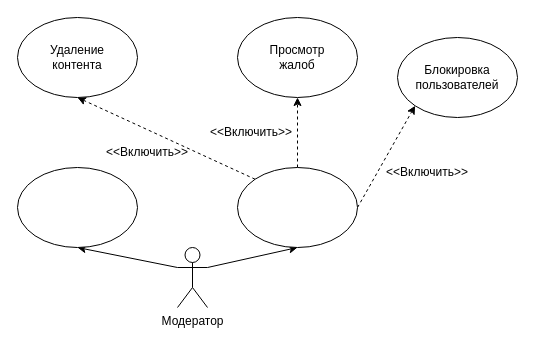
Image size: 535x346. Some labels were removed from this diagram. Each missing label, with the box of its shape:
Действия пользователя: (16, 166, 138, 248)
Модерация: (236, 166, 358, 248)
